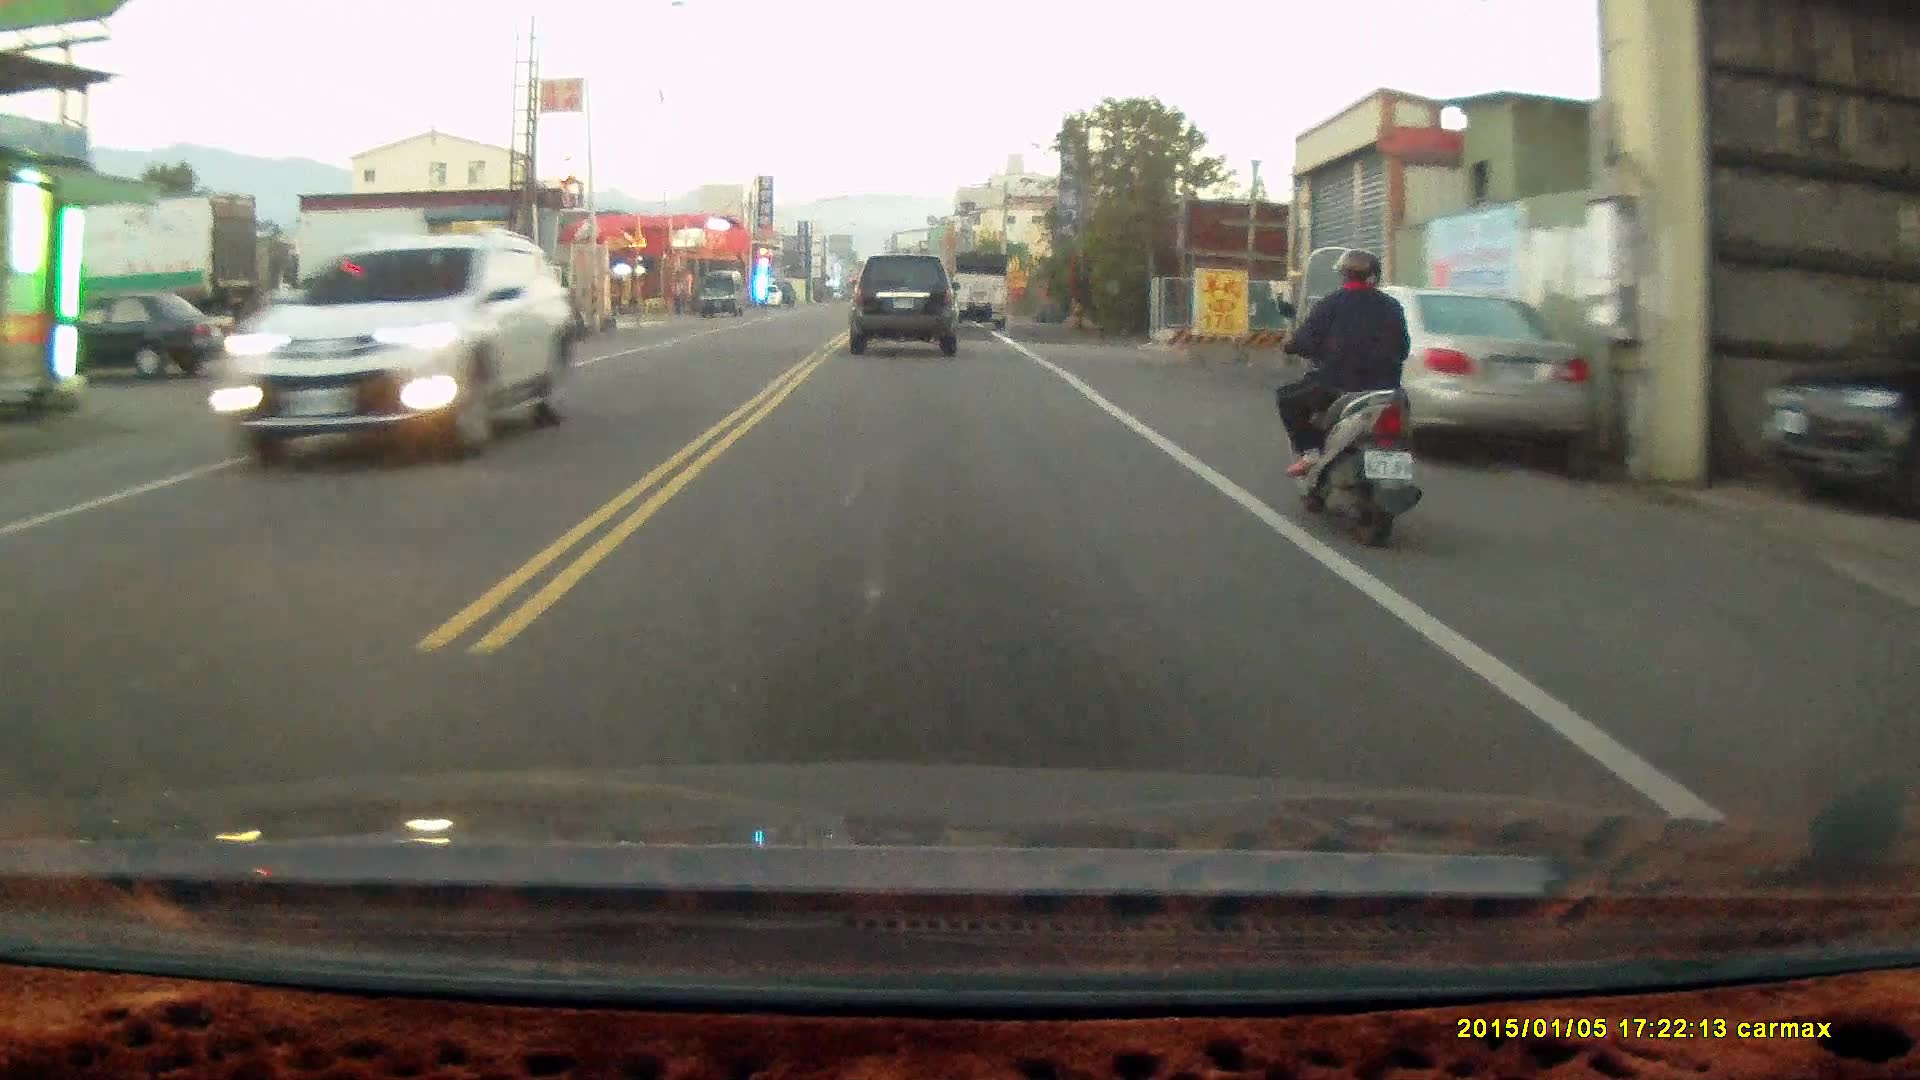rider: (1272, 244, 1420, 547)
vehicle: (214, 234, 573, 465), (1293, 285, 1589, 461), (1755, 293, 1920, 514), (69, 288, 238, 383), (850, 253, 962, 359), (950, 250, 1012, 330)
